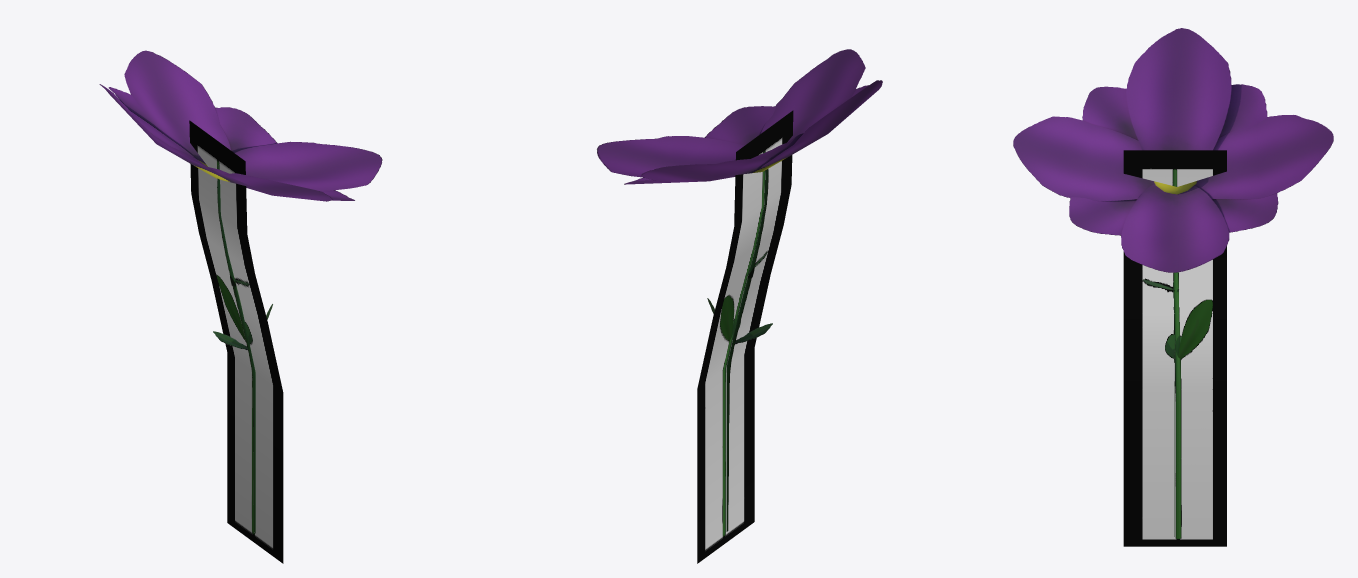
The model's file is flower-low.fbx.
The picture shows the model from 3 angles, left to right: view 1: azimuth 30°, elevation 25°; view 2: azimuth 150°, elevation 25°; view 3: azimuth 270°, elevation 25°; orthographic projection. The views are drawn at different scales.
Visible parts, largest first — view 1: Flower; view 2: Flower; view 3: Flower.
Part boxes in pixels (left/top/right/bottom): Flower: left=99, top=50, right=382, bottom=563; Flower: left=597, top=49, right=882, bottom=563; Flower: left=1013, top=28, right=1333, bottom=546.
Size of the model in its own units: 33.29 by 56.46 by 37.35.
